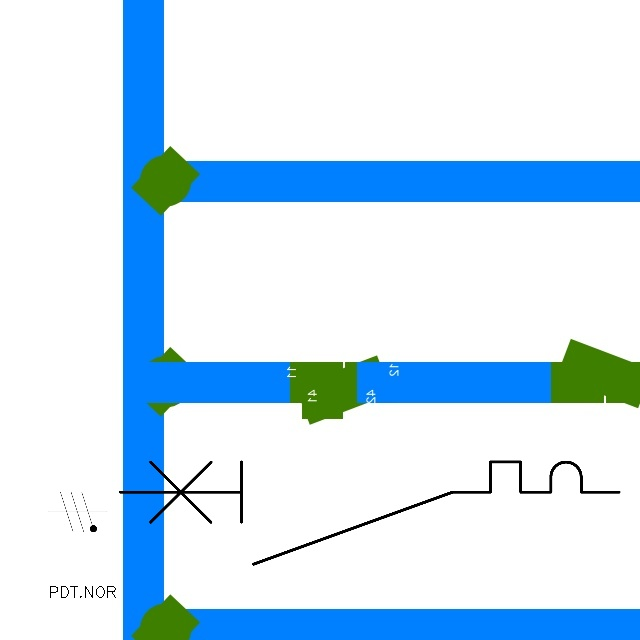interruptor_termomagnetico: (107, 449, 632, 577)
